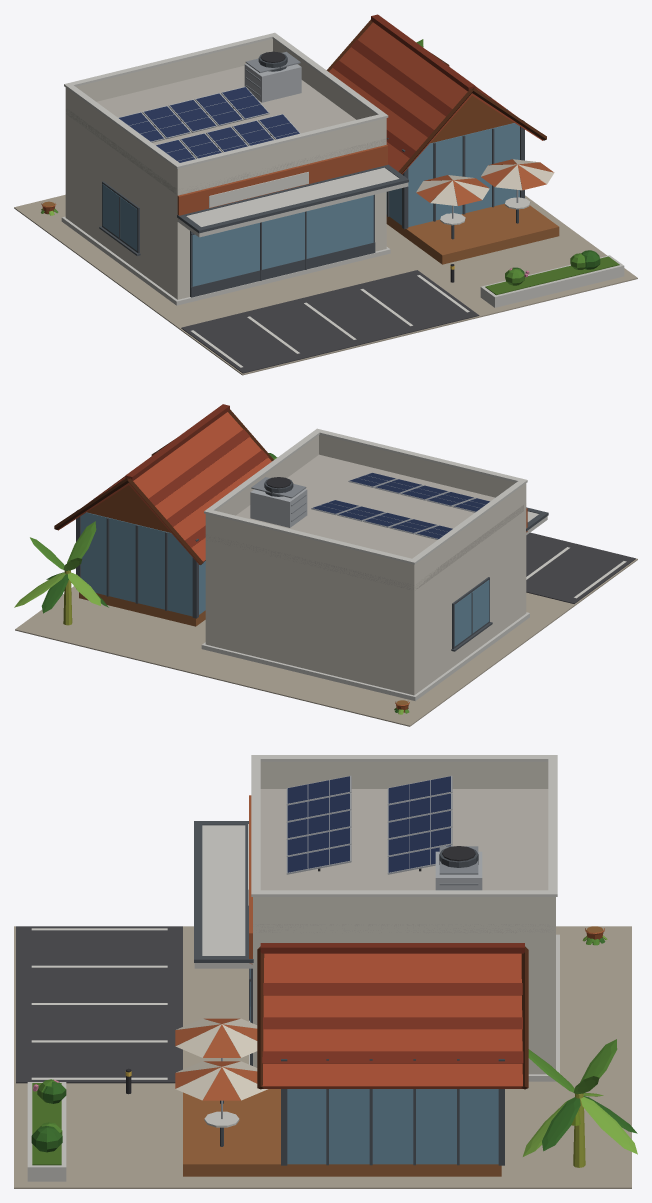
Rendered from shop_1.glb.
3 renders of one model, top to bottom at view 1: azimuth 30°, elevation 25°; view 2: azimuth 150°, elevation 25°; view 3: azimuth 270°, elevation 25°, orthographic. The views are drawn at different scales.
Visible parts, largest first — view 1: body; view 2: body; view 3: body.
Boxes of the visible parts, left/top/right/bottom form: body: left=14, top=14, right=637, bottom=375; body: left=14, top=404, right=637, bottom=726; body: left=14, top=755, right=637, bottom=1188.
Bounding box in the file's own units: 15.91 × 6.1 × 16.06.
